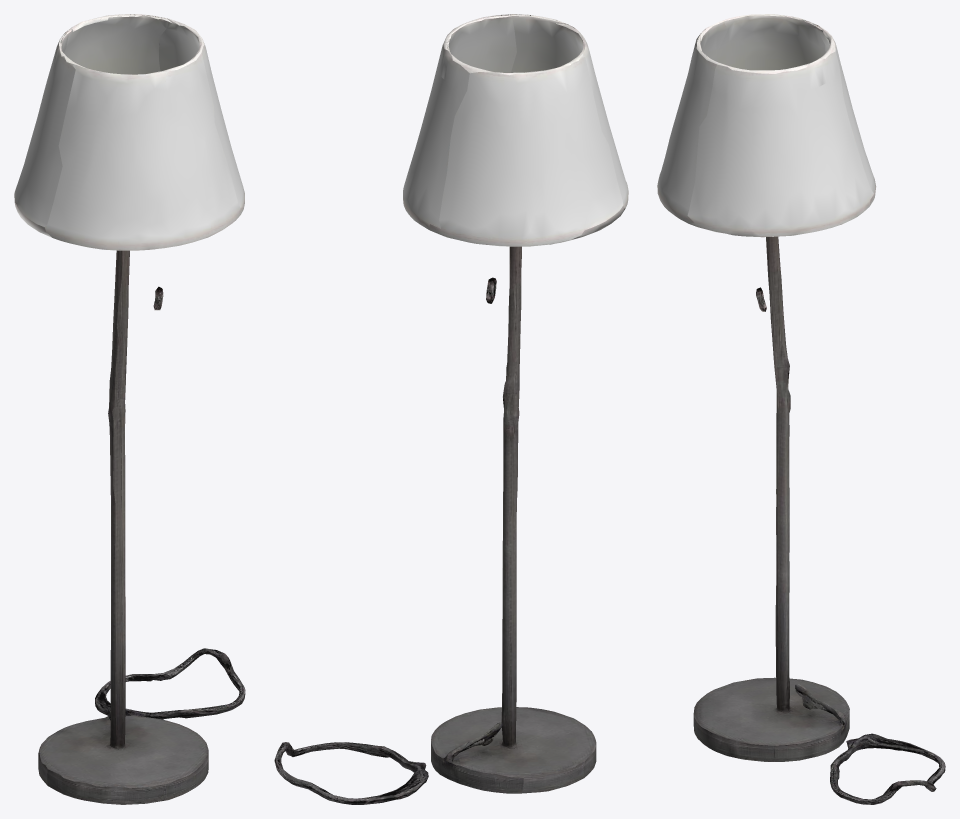
The model's file is lampe-sur-pied.glb.
3 views of the same model, side by side, from view 1: azimuth 30°, elevation 25°; view 2: azimuth 150°, elevation 25°; view 3: azimuth 270°, elevation 25° (orthographic). The views are drawn at different scales.
Visible parts, largest first — view 1: geometry_0; view 2: geometry_0; view 3: geometry_0.
Part boxes in pixels (box(x1,y1,x2,y2)): geometry_0: box(14, 14, 245, 804); geometry_0: box(274, 14, 628, 804); geometry_0: box(657, 14, 945, 804).
Size of the model in its own units: 0.3875 by 1 by 0.3797.
1 material, 1 textured.
